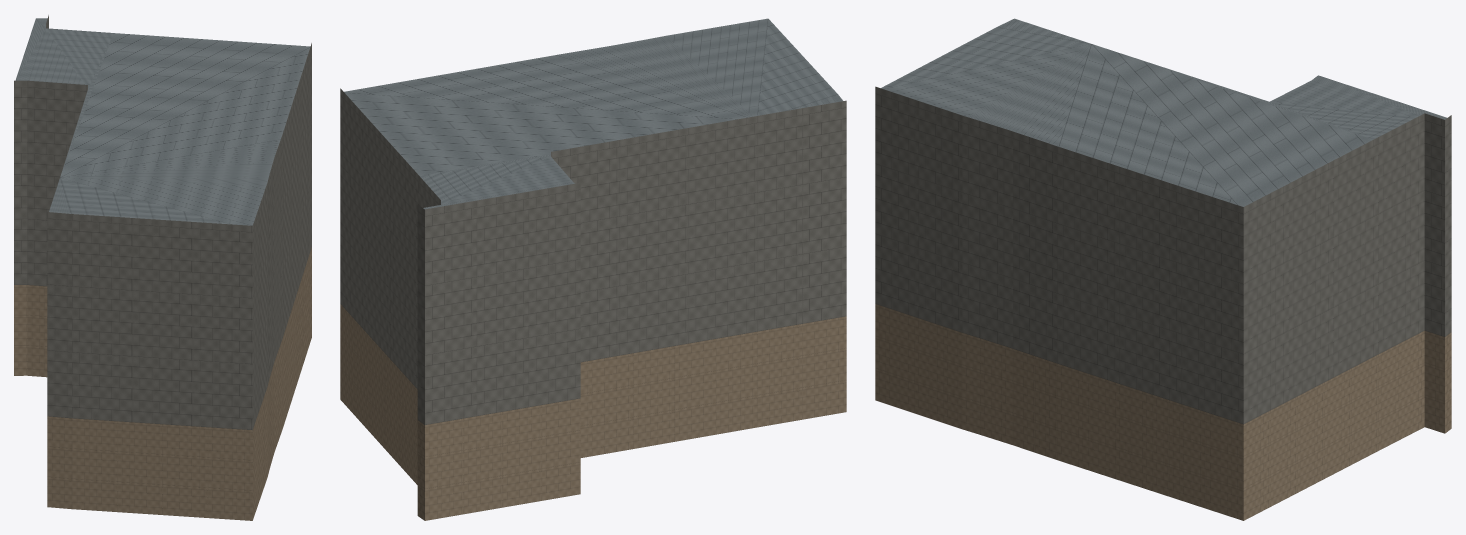
Rendered from bld_c-19_19_525.gltf.
The picture shows the model from 3 angles, left to right: view 1: azimuth 30°, elevation 25°; view 2: azimuth 150°, elevation 25°; view 3: azimuth 270°, elevation 25°; orthographic projection. The views are drawn at different scales.
Parts seen in each view (by area): view 1: bld_c-19_19_525; view 2: bld_c-19_19_525; view 3: bld_c-19_19_525.
Part boxes in pixels (x1=…): bld_c-19_19_525: x1=14, y1=15, x2=311, y2=520; bld_c-19_19_525: x1=340, y1=18, x2=846, y2=520; bld_c-19_19_525: x1=875, y1=18, x2=1451, y2=520.
Size of the model in its own units: 21.88 by 16.58 by 27.61.
Materials: 4 (4 with a texture image).
